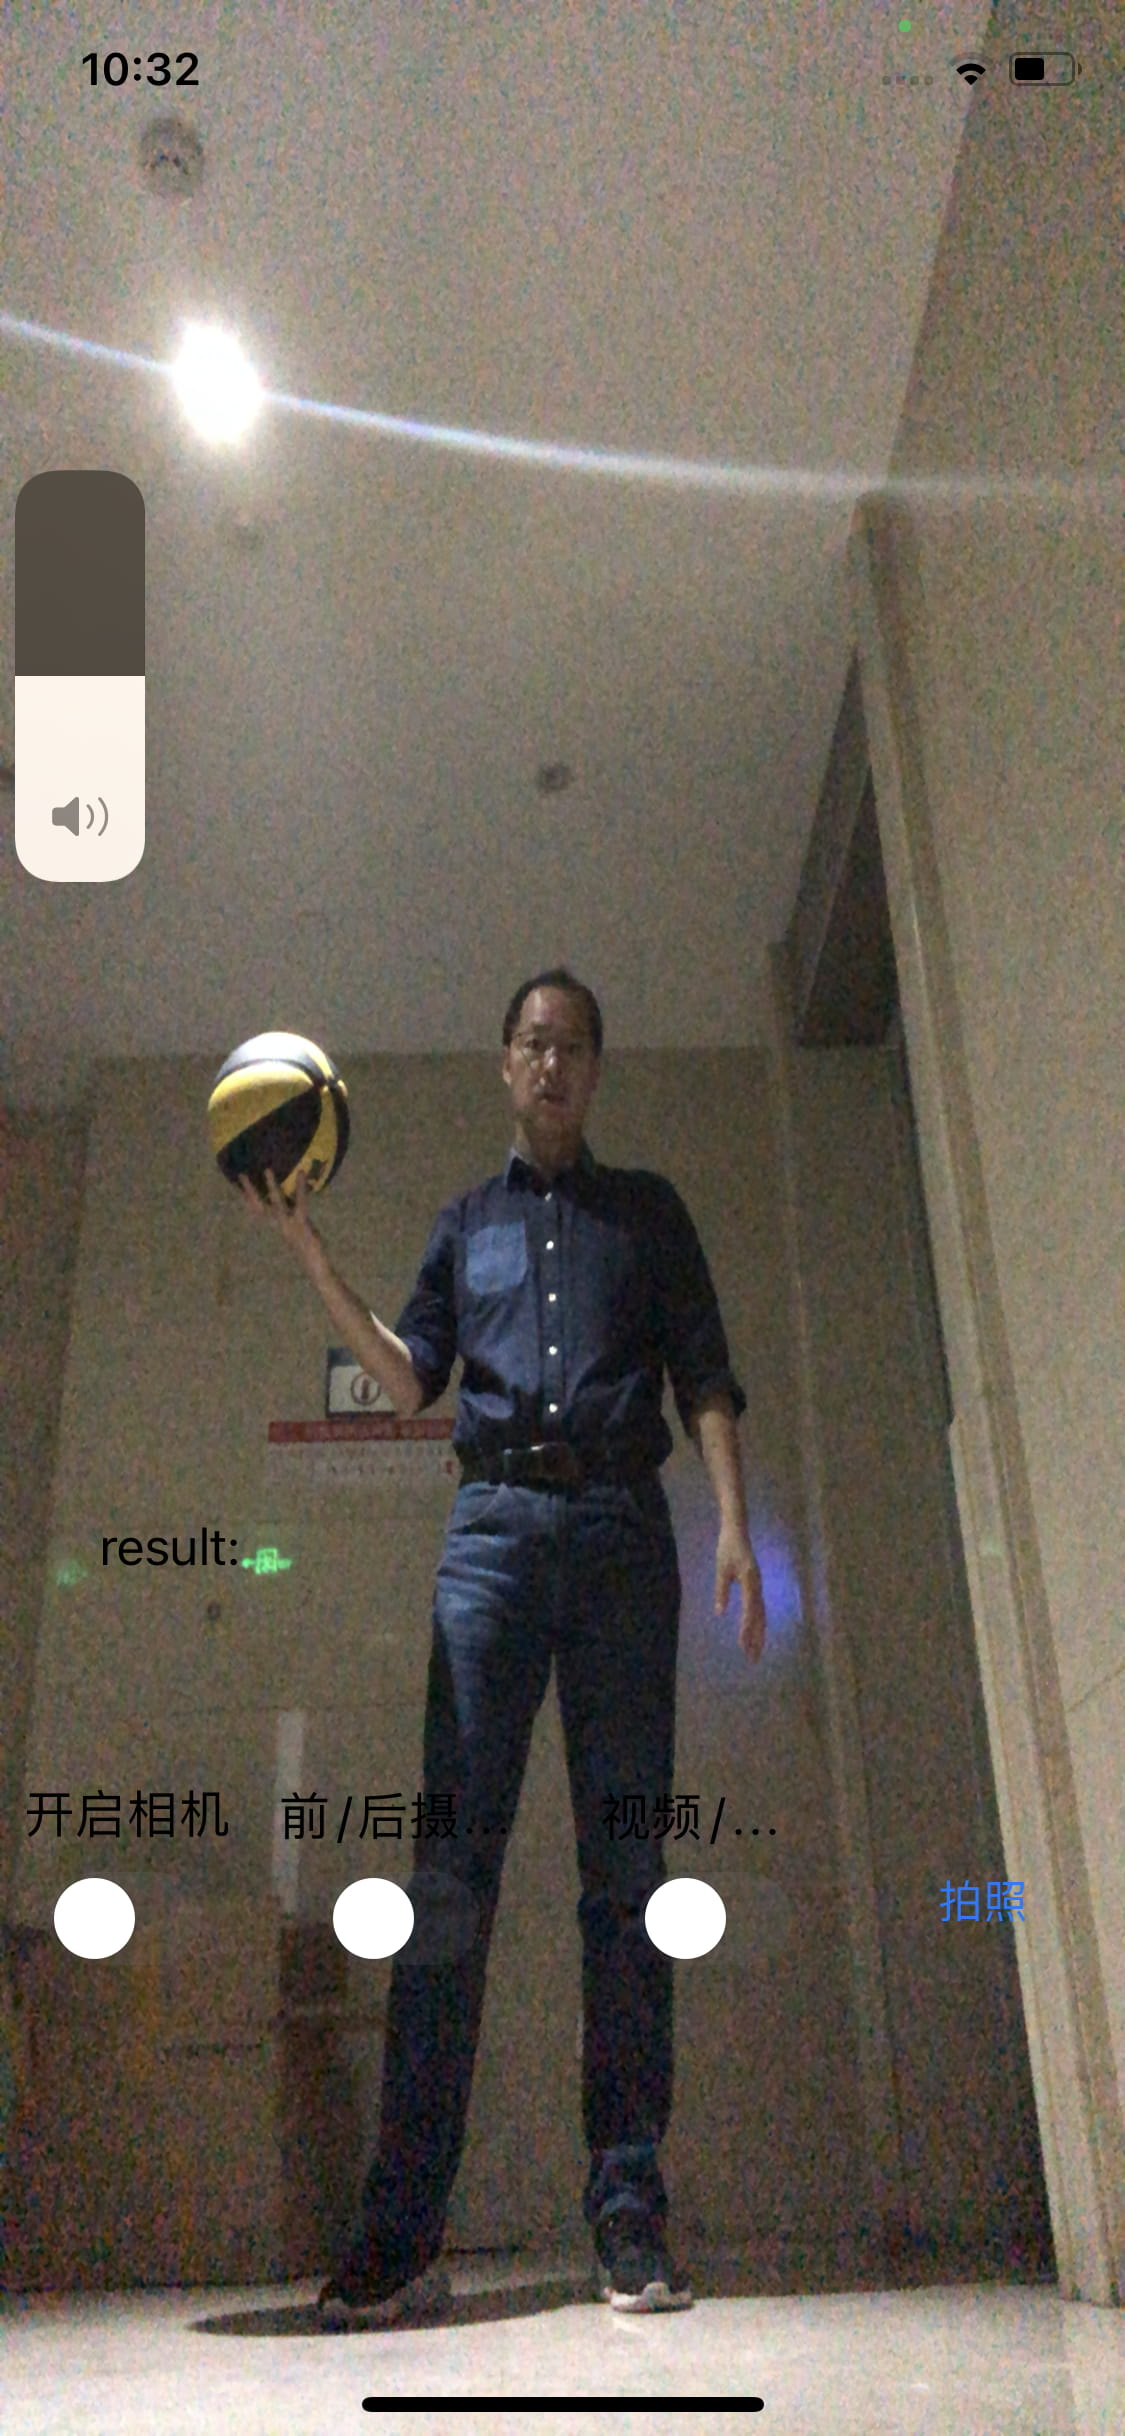ball: (210, 1028, 356, 1204)
